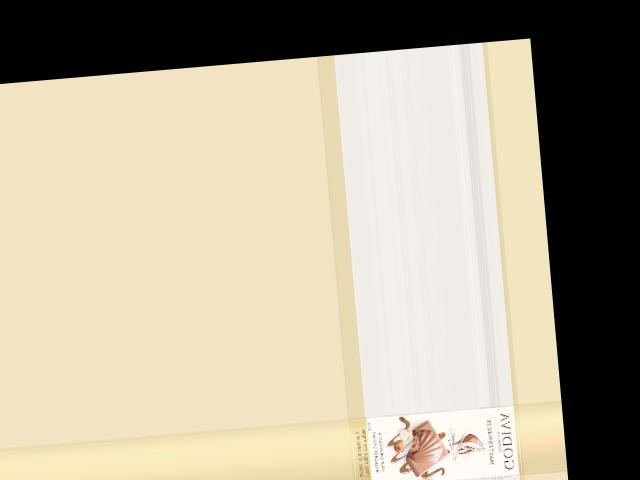chocolate: (348, 404, 524, 480)
